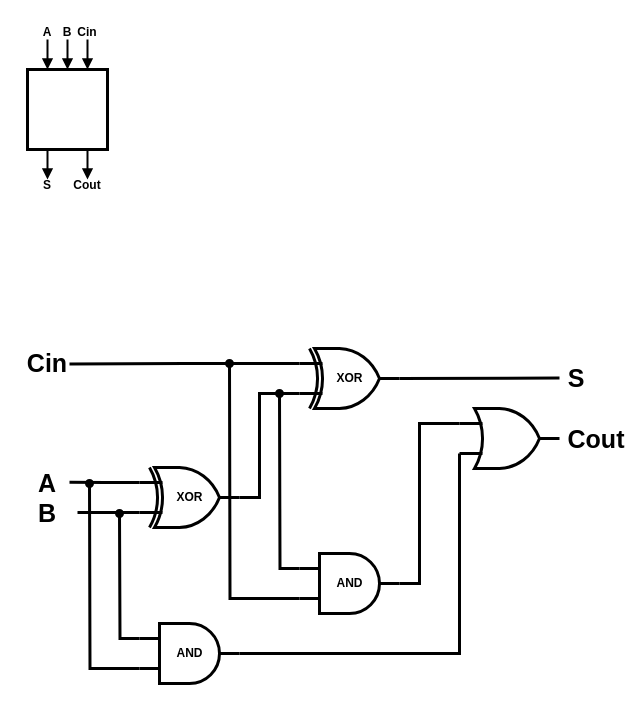
Some shapes in this 643 by 702 pixel diagram are drawn without their labels. The shapes that lost their labels are listed below. From the top down, each one's centre as x and y in pixels, then its label:
At pixel 67 109: "FA".
At pixel 509 438: "OR".
